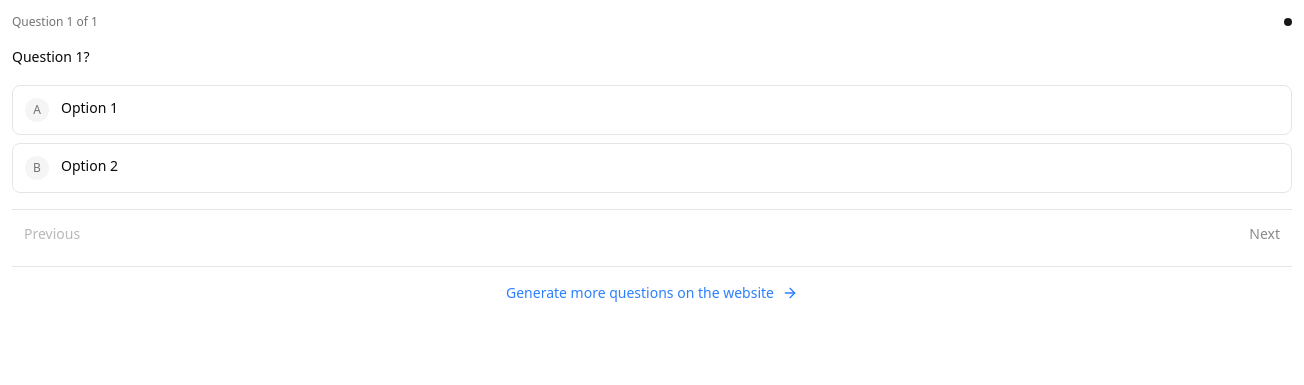
QuizView › option selection and feedback › disables all options after selection
Click the text "Option 1": (90, 107) 61,98 -> 118,117
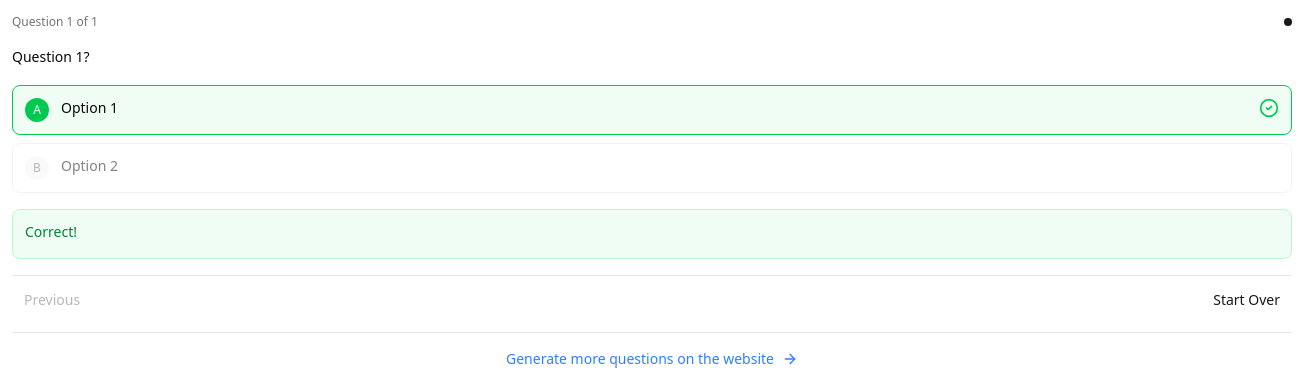
Now the button "A Option 1" is disabled, box 12,85 -> 1292,135
Now the button "B Option 2" is disabled, box 12,143 -> 1292,193
